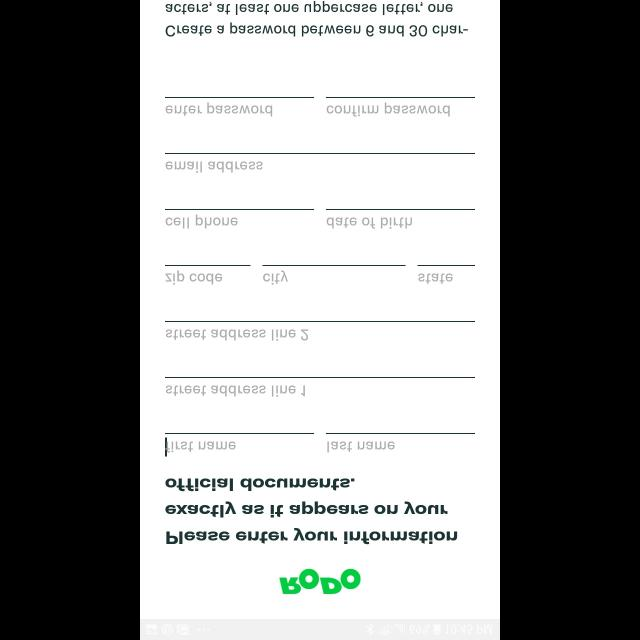image: (280, 568, 360, 594)
input: (165, 152, 475, 174), (165, 321, 475, 341), (165, 376, 475, 396), (166, 432, 314, 456), (326, 97, 476, 117), (326, 209, 476, 229), (326, 432, 476, 452), (166, 97, 314, 117), (166, 208, 314, 228), (262, 265, 406, 285), (165, 265, 251, 285), (417, 264, 475, 284)
text: (166, 478, 458, 544), (165, 1, 468, 37), (167, 329, 309, 341), (165, 103, 272, 117), (166, 386, 306, 396), (165, 161, 262, 173), (327, 217, 413, 229), (166, 214, 238, 228), (165, 270, 222, 284), (166, 442, 236, 452), (328, 442, 394, 452), (418, 272, 452, 284), (264, 270, 288, 286)
uppertaskbar: (140, 618, 500, 640)
